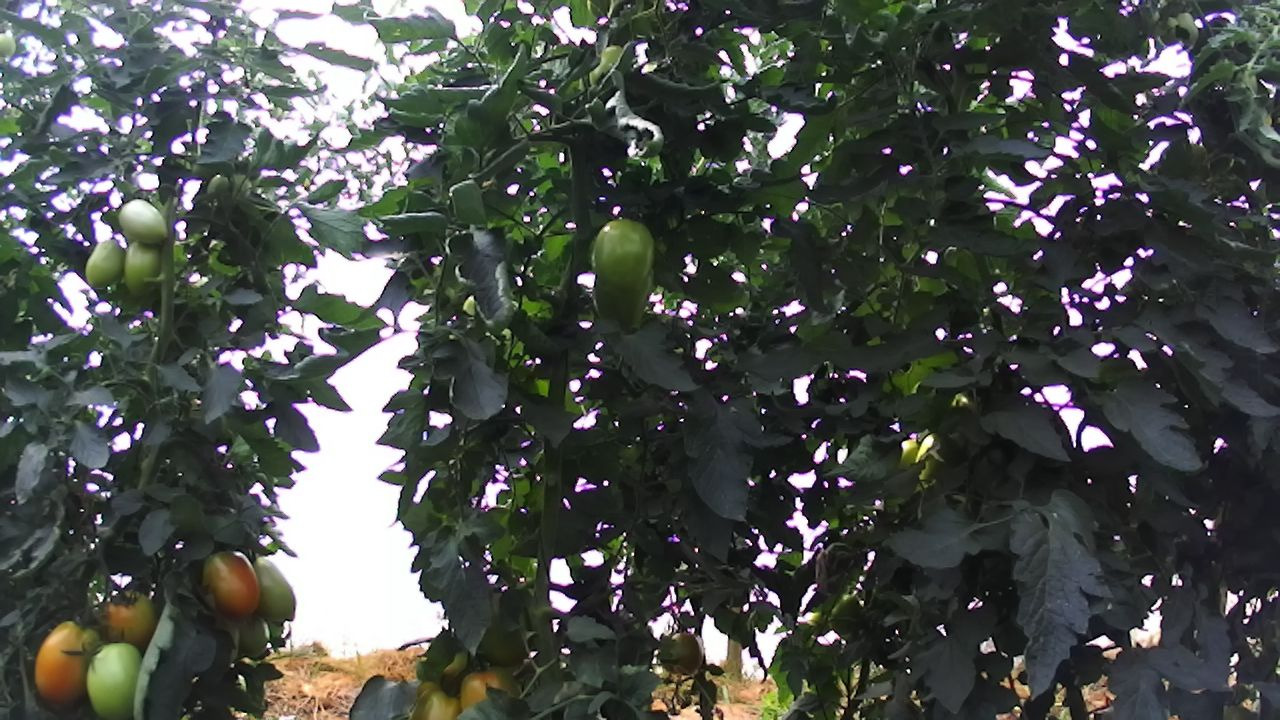tomato: (31, 615, 101, 709), (585, 215, 658, 298), (197, 545, 263, 623), (83, 638, 144, 720), (98, 580, 162, 650), (243, 551, 300, 626), (117, 193, 170, 247), (119, 243, 165, 300), (83, 237, 127, 292)
